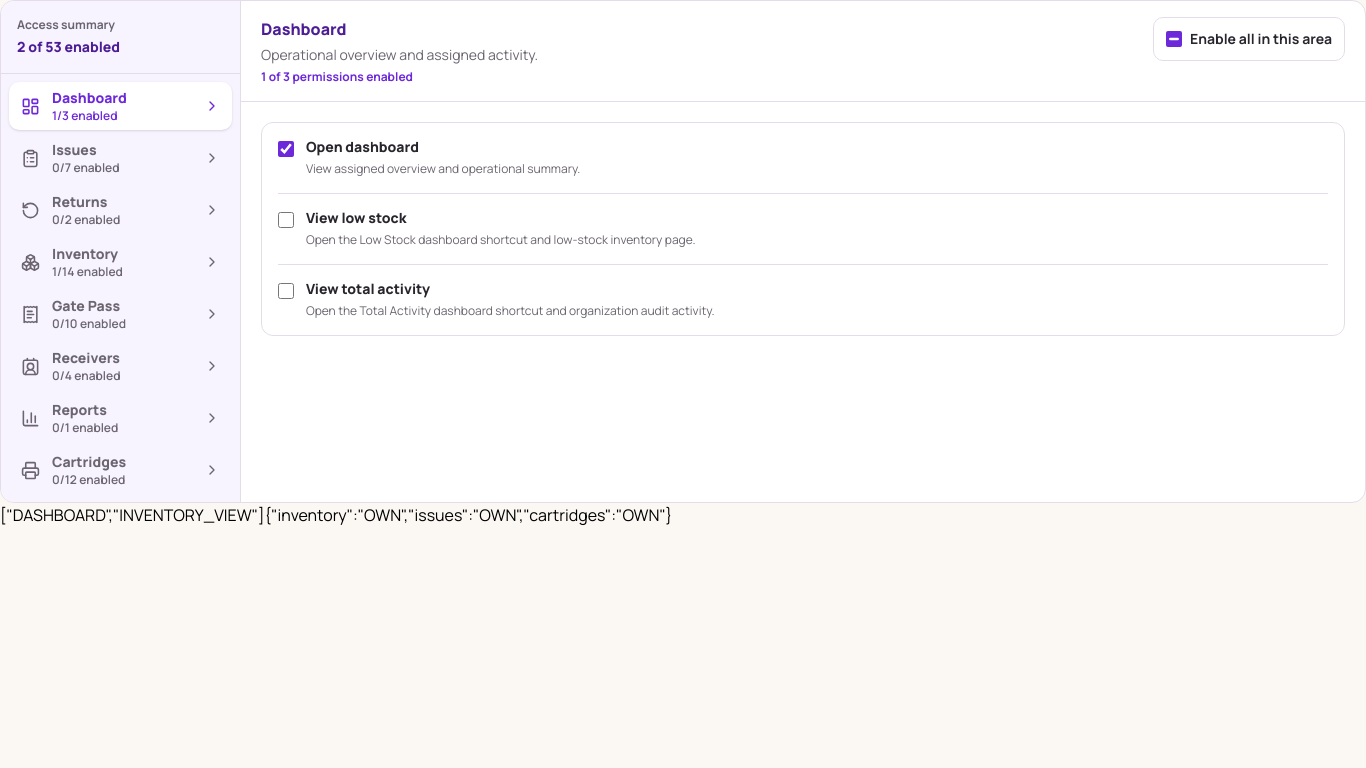
AccessEditor › organizes permissions by area and keeps data visibility with its area
Expected: the checkbox labelled "Open dashboard" is shown, [278, 141, 294, 157]
Expected: the checkbox labelled "View low stock" is shown, [278, 212, 294, 228]
Click the button "Inventory 1/14 enabled". click: (120, 262)
box: [9, 238, 232, 286]
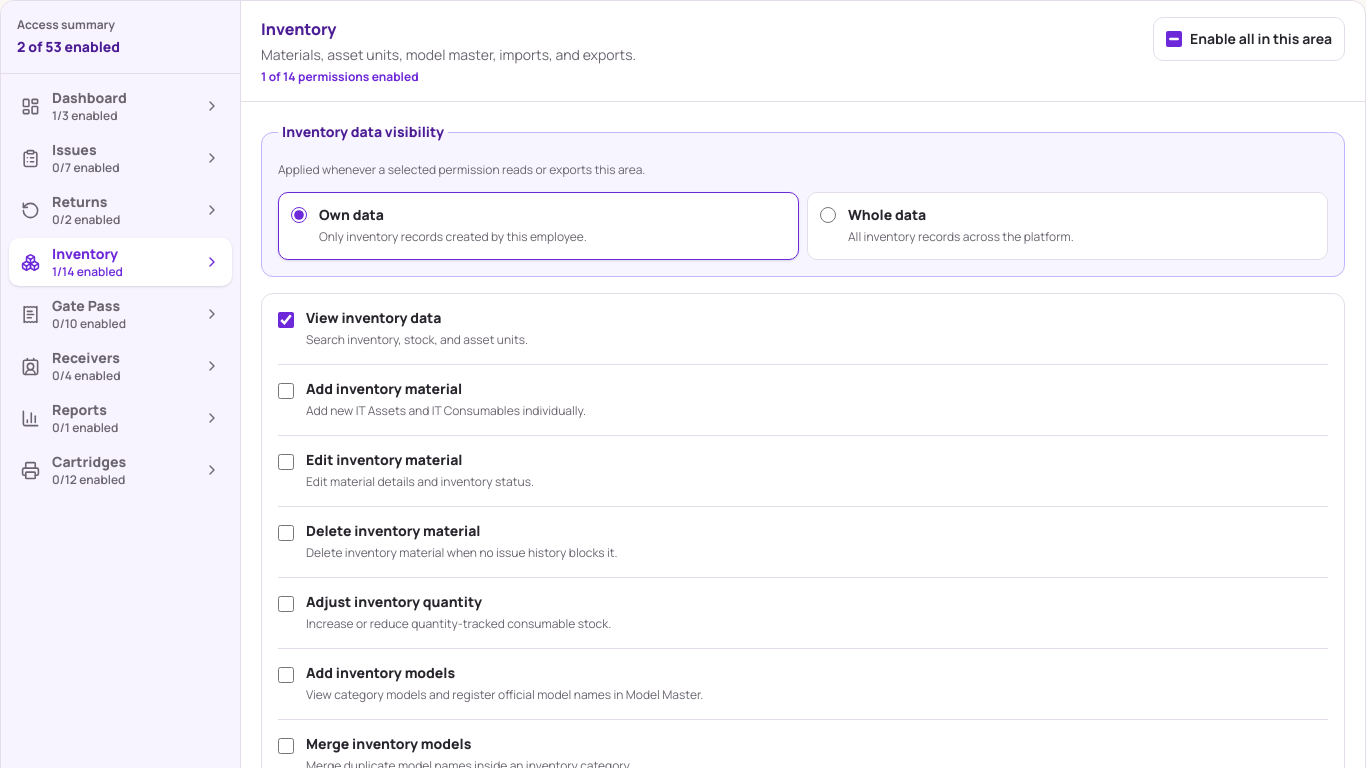
Expected: the checkbox labelled "Add inventory material" is shown, [278, 383, 294, 399]
Click the radio button labelled "Whole data All inventory records across the platform.". click: (828, 215)
box: [820, 207, 836, 223]
(page scrolled)
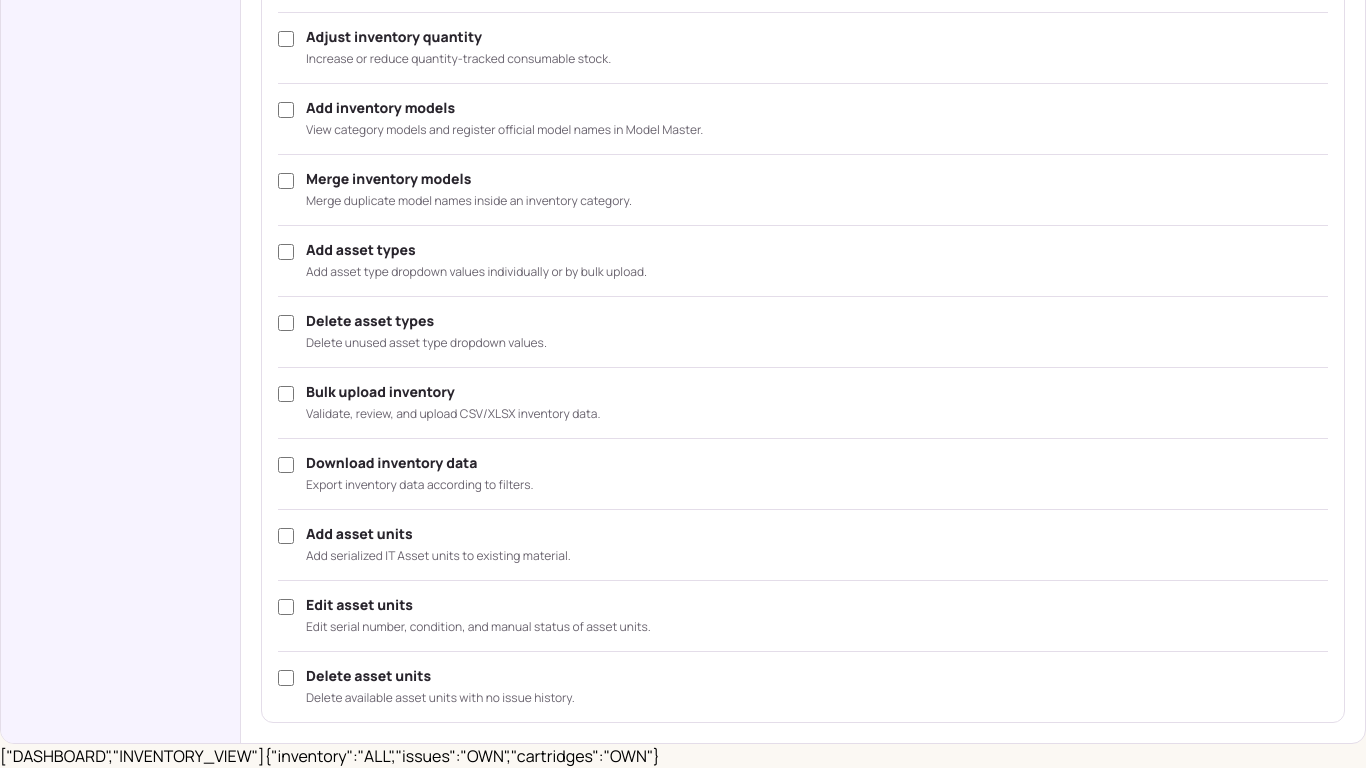
Result: the text with test id "data-access" shows "\"inventory\":\"ALL\"" at [264, 745, 660, 767]
